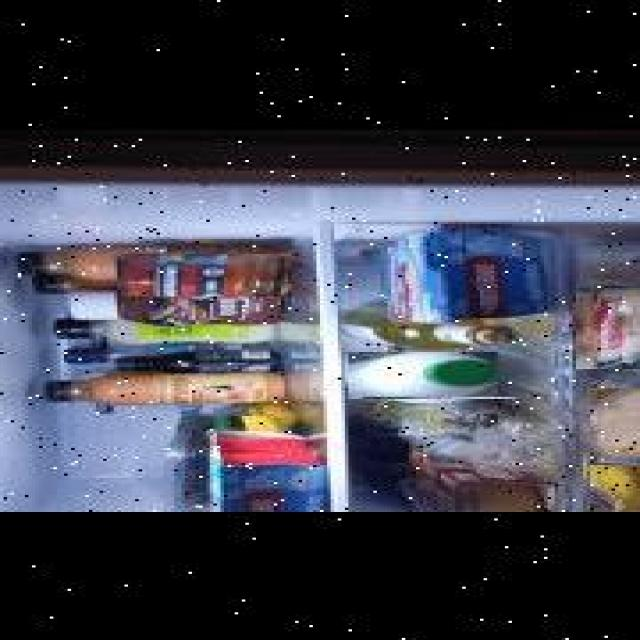asparagus: (362, 394, 516, 432)
cheese: (576, 284, 640, 367)
humus: (590, 384, 640, 461)
milk: (348, 349, 498, 396)
pineapple: (586, 463, 640, 512)
tomato_sauce: (123, 252, 293, 294)
